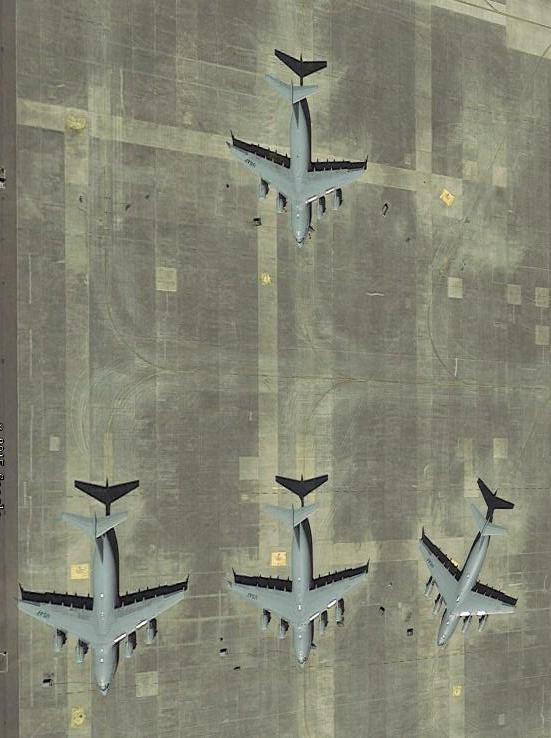C-17: (13, 496, 196, 695), (224, 70, 373, 252), (225, 491, 368, 668), (409, 504, 523, 652)
